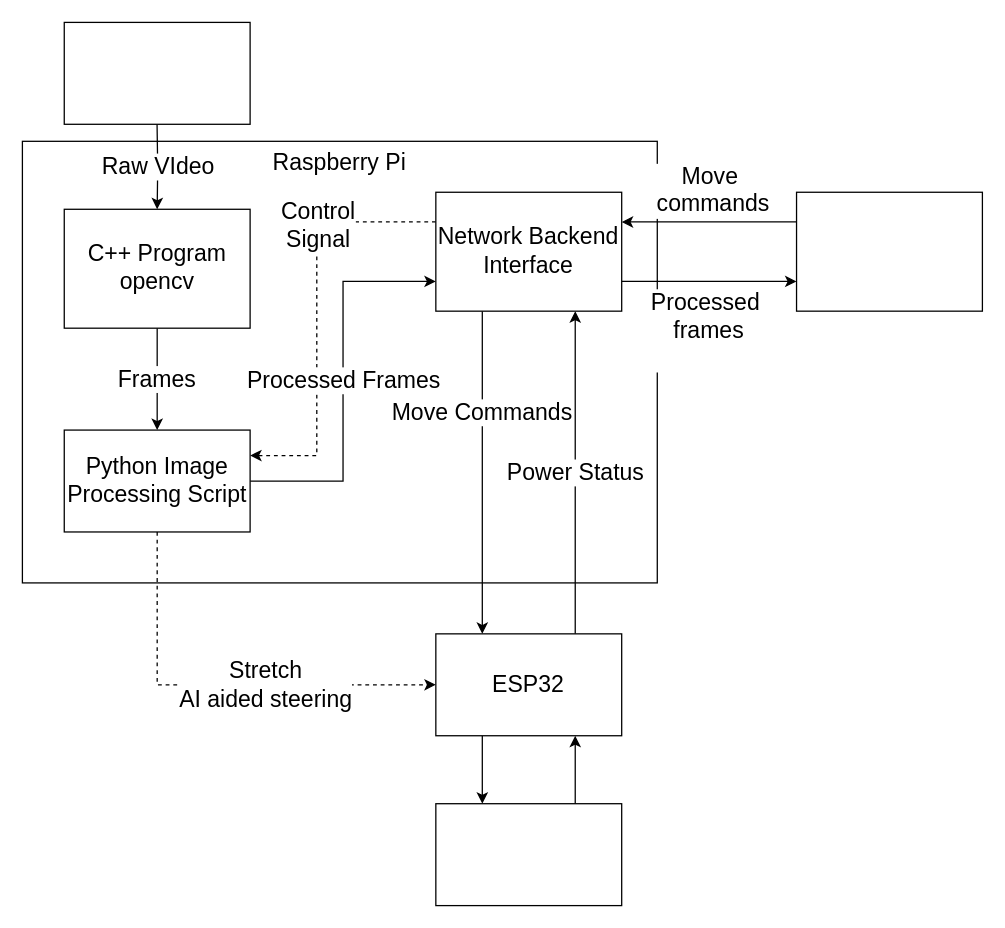
Image size: 1005x928. Some labels were removed from this diagram. Each missing label, with the box of its shape:
Camera module: (63, 21, 250, 124)
Hardware: (435, 802, 622, 906)
Laptop: (795, 191, 982, 311)
